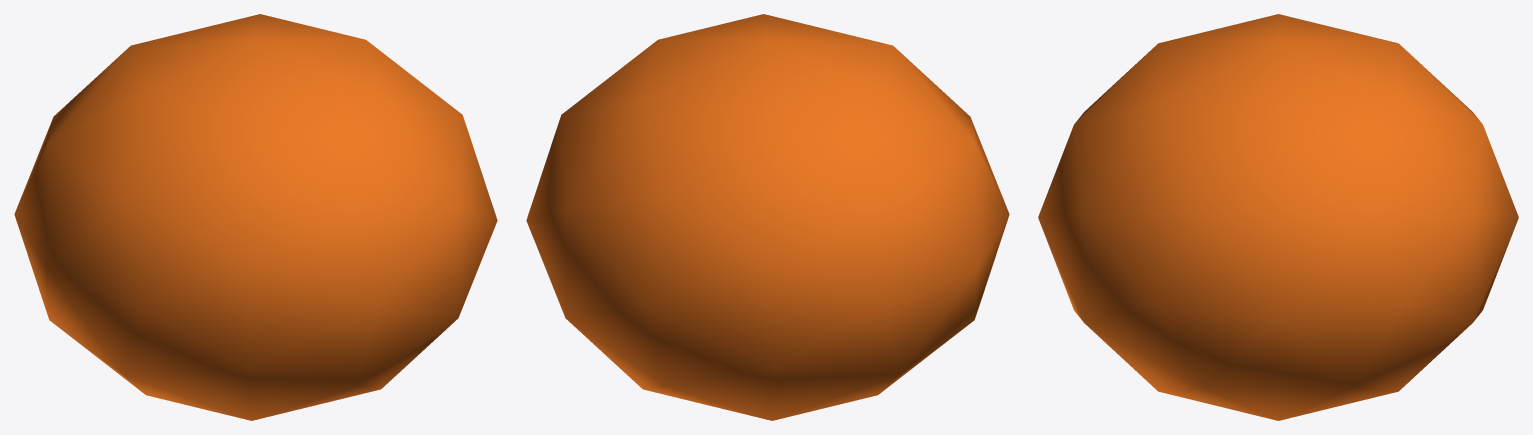
File: carabassa-deco.glb
The picture shows the model from 3 angles, left to right: view 1: azimuth 30°, elevation 25°; view 2: azimuth 150°, elevation 25°; view 3: azimuth 270°, elevation 25°; orthographic projection.
Parts seen in each view (by area): view 1: carabassa-deco; view 2: carabassa-deco; view 3: carabassa-deco.
Boxes of the visible parts, x1,y1,x2,y2 form: carabassa-deco: (14,14,497,420); carabassa-deco: (526,14,1009,420); carabassa-deco: (1038,14,1518,420).
Bounding box in the file's own units: 0.8029 × 0.65 × 0.8029.
1 material, 1 textured.
